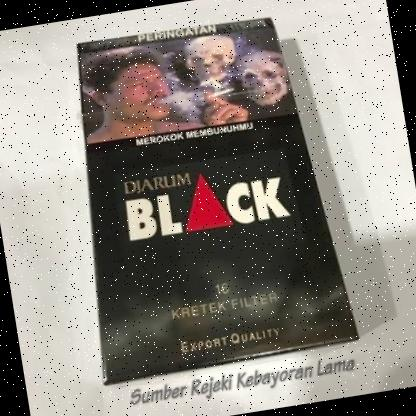bungkus rokok: (42, 0, 366, 390)
